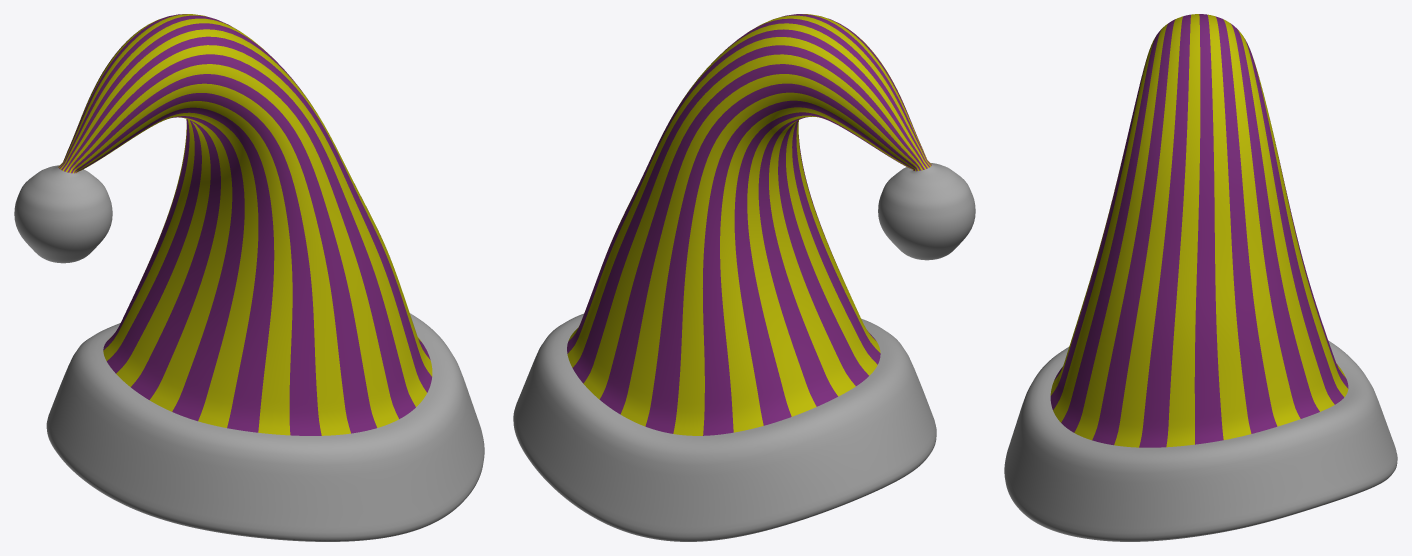
Rendered from Nightcap.fbx.
The picture shows the model from 3 angles, left to right: view 1: azimuth 30°, elevation 25°; view 2: azimuth 150°, elevation 25°; view 3: azimuth 270°, elevation 25°; orthographic projection. The views are drawn at different scales.
Parts seen in each view (by area): view 1: Circle; view 2: Circle; view 3: Circle.
Part boxes in pixels (<box>): Circle: <box>14,14,484,541</box>; Circle: <box>513,14,975,541</box>; Circle: <box>1004,14,1397,541</box>.
Bounding box in the file's own units: 140 × 145 × 122.
